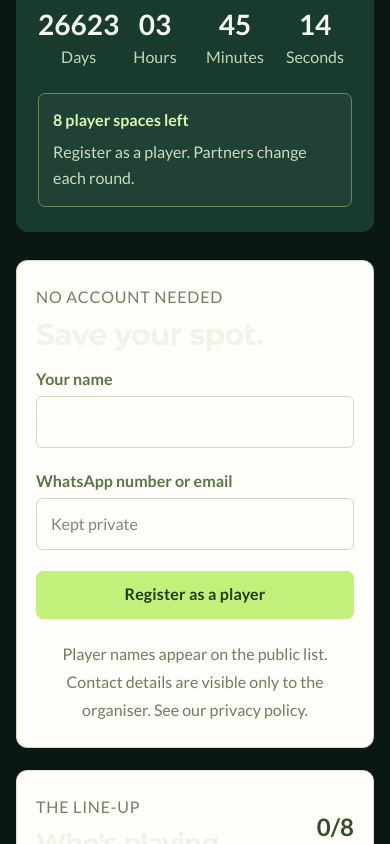
Test: Americano v2 public signup › uses the individual v2 RPC and maps its field error back to the contact control
The width and height of the screenshot is (390, 844).
(page scrolled)
Type "Alex" into the field labelled "Your name" at (195, 422), box [36, 396, 354, 448]
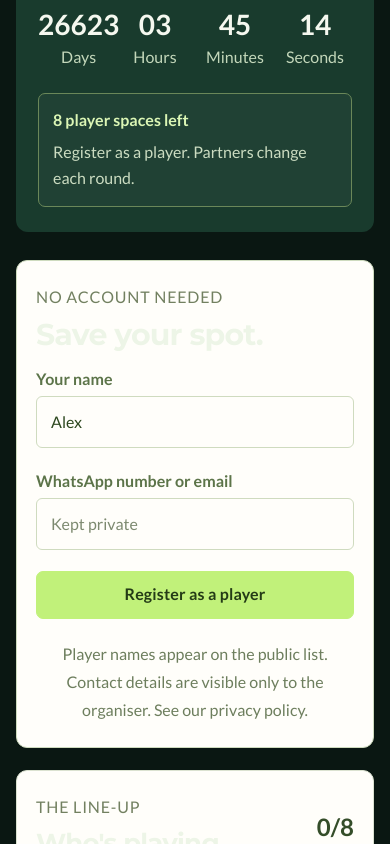
Type "x" into the field labelled "WhatsApp number or email" at (195, 524), box [36, 498, 354, 550]
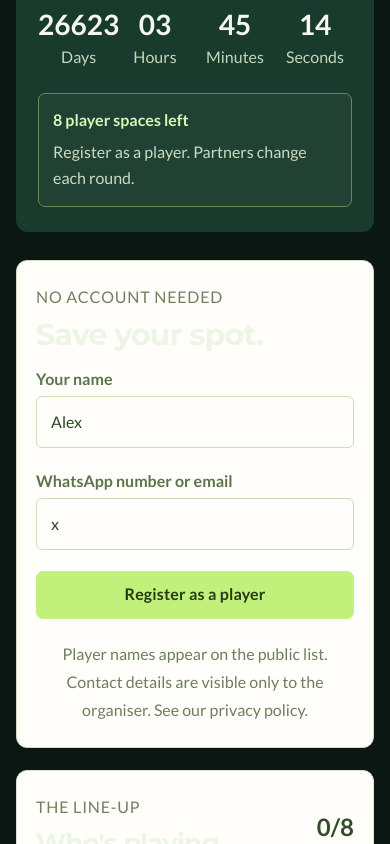
Click the button "Register as a player" at (195, 595), box [36, 571, 354, 619]
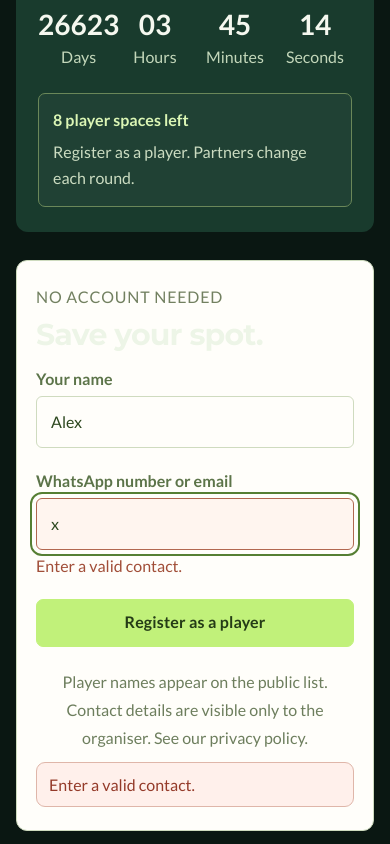
Check: the text "Enter a valid contact." is shown 2 times, box [36, 556, 182, 575]; [36, 762, 354, 807]
